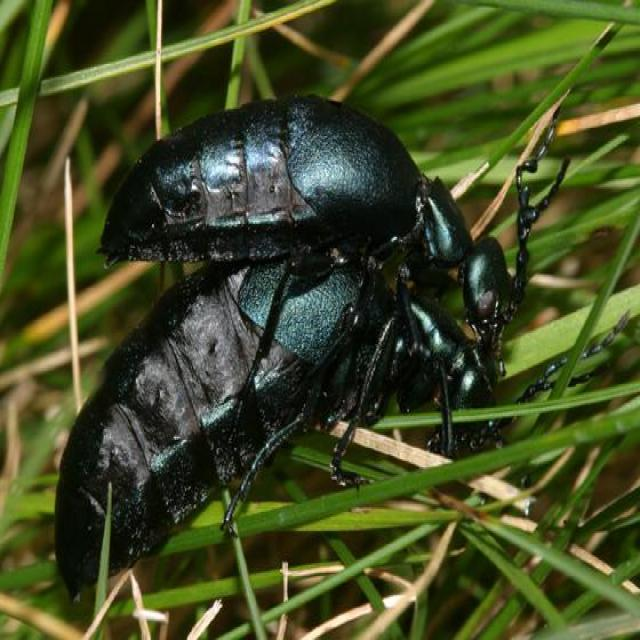BlisterBeetle-Adult-: (102, 92, 514, 279)
